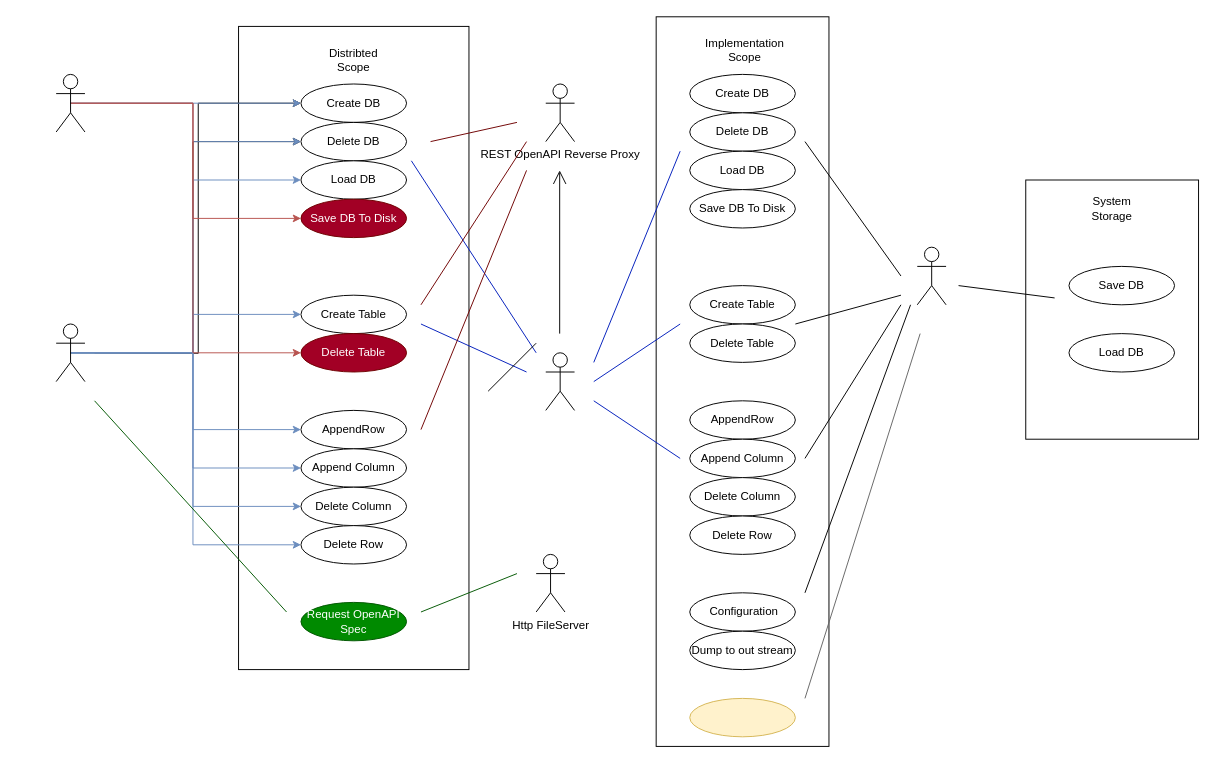
The diagram is 1215 pixels wide and 763 high, and some of its shapes have lost their labels. The shapes that lost their labels are listed below. From the top down, each one's centre as x and y in pixels, then its label:
the point at 70,102: gRPC/OpenAPI User
the point at 931,275: Database
the point at 70,352: Web User
the point at 560,381: gRPC Server
the point at 742,717: Table Diff
